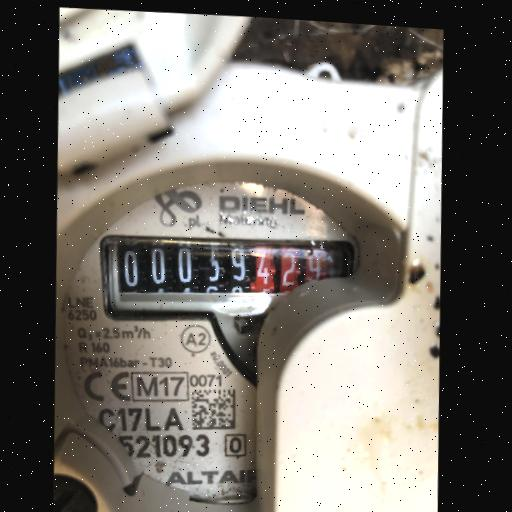0: (115, 238, 150, 295), (144, 239, 179, 295), (174, 241, 205, 294)
2: (277, 245, 306, 296)
4: (252, 245, 281, 295)
5: (201, 243, 232, 294)
9: (228, 245, 257, 295), (305, 246, 333, 284)
border_water_meter_number: (96, 225, 359, 338)
